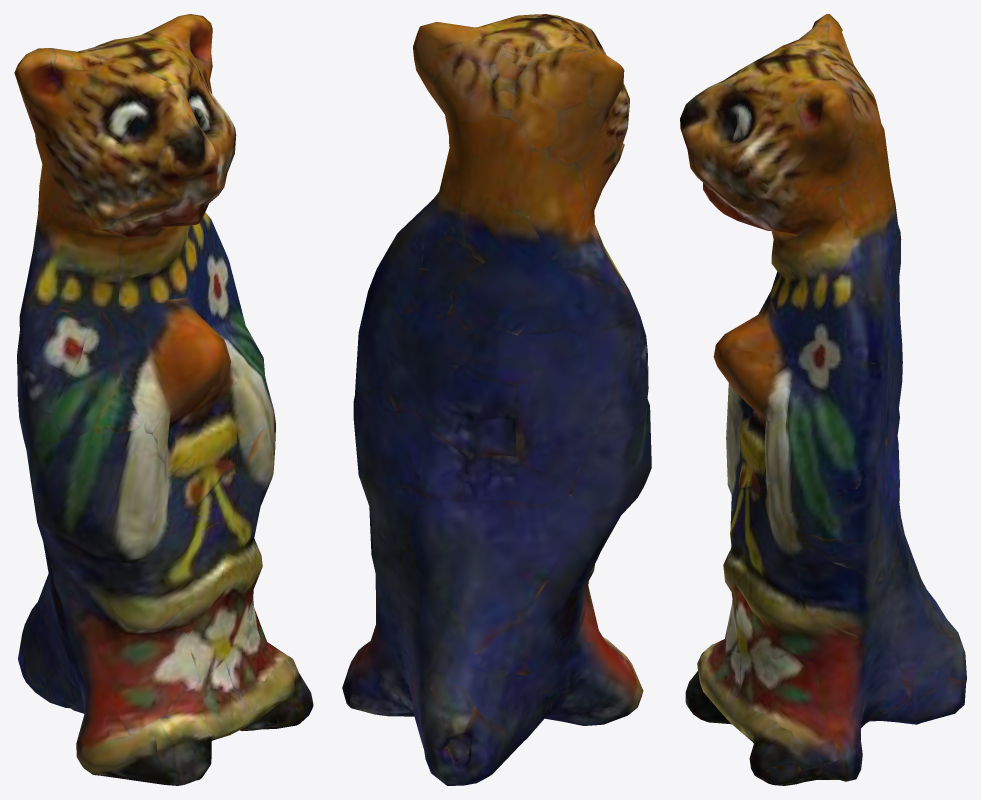
The model's file is hall.glb.
3 views of the same model, side by side, from view 1: azimuth 30°, elevation 25°; view 2: azimuth 150°, elevation 25°; view 3: azimuth 270°, elevation 25° (orthographic). The views are drawn at different scales.
Bounding box in the file's own units: 0.2643 × 0.6428 × 0.2517.
Materials: 1 (1 with a texture image).
